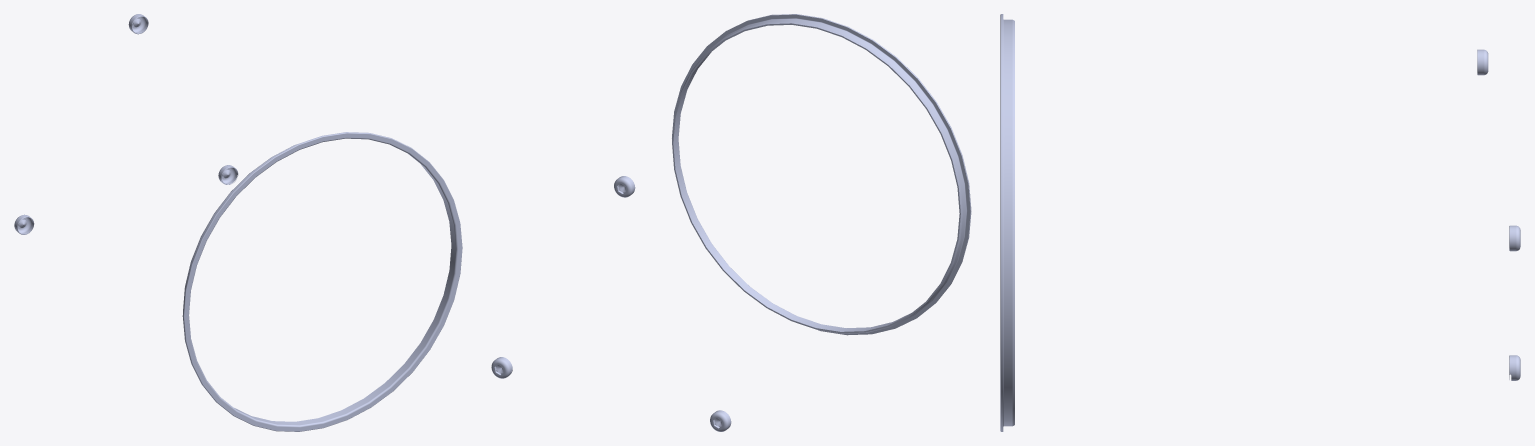
File: ur3e_scaled_35.obj
3 renders of one model, left to right at view 1: azimuth 30°, elevation 25°; view 2: azimuth 150°, elevation 25°; view 3: azimuth 270°, elevation 25°, orthographic. The views are drawn at different scales.
Size of the model in its own units: 0.09 by 0.09 by 0.1116.
